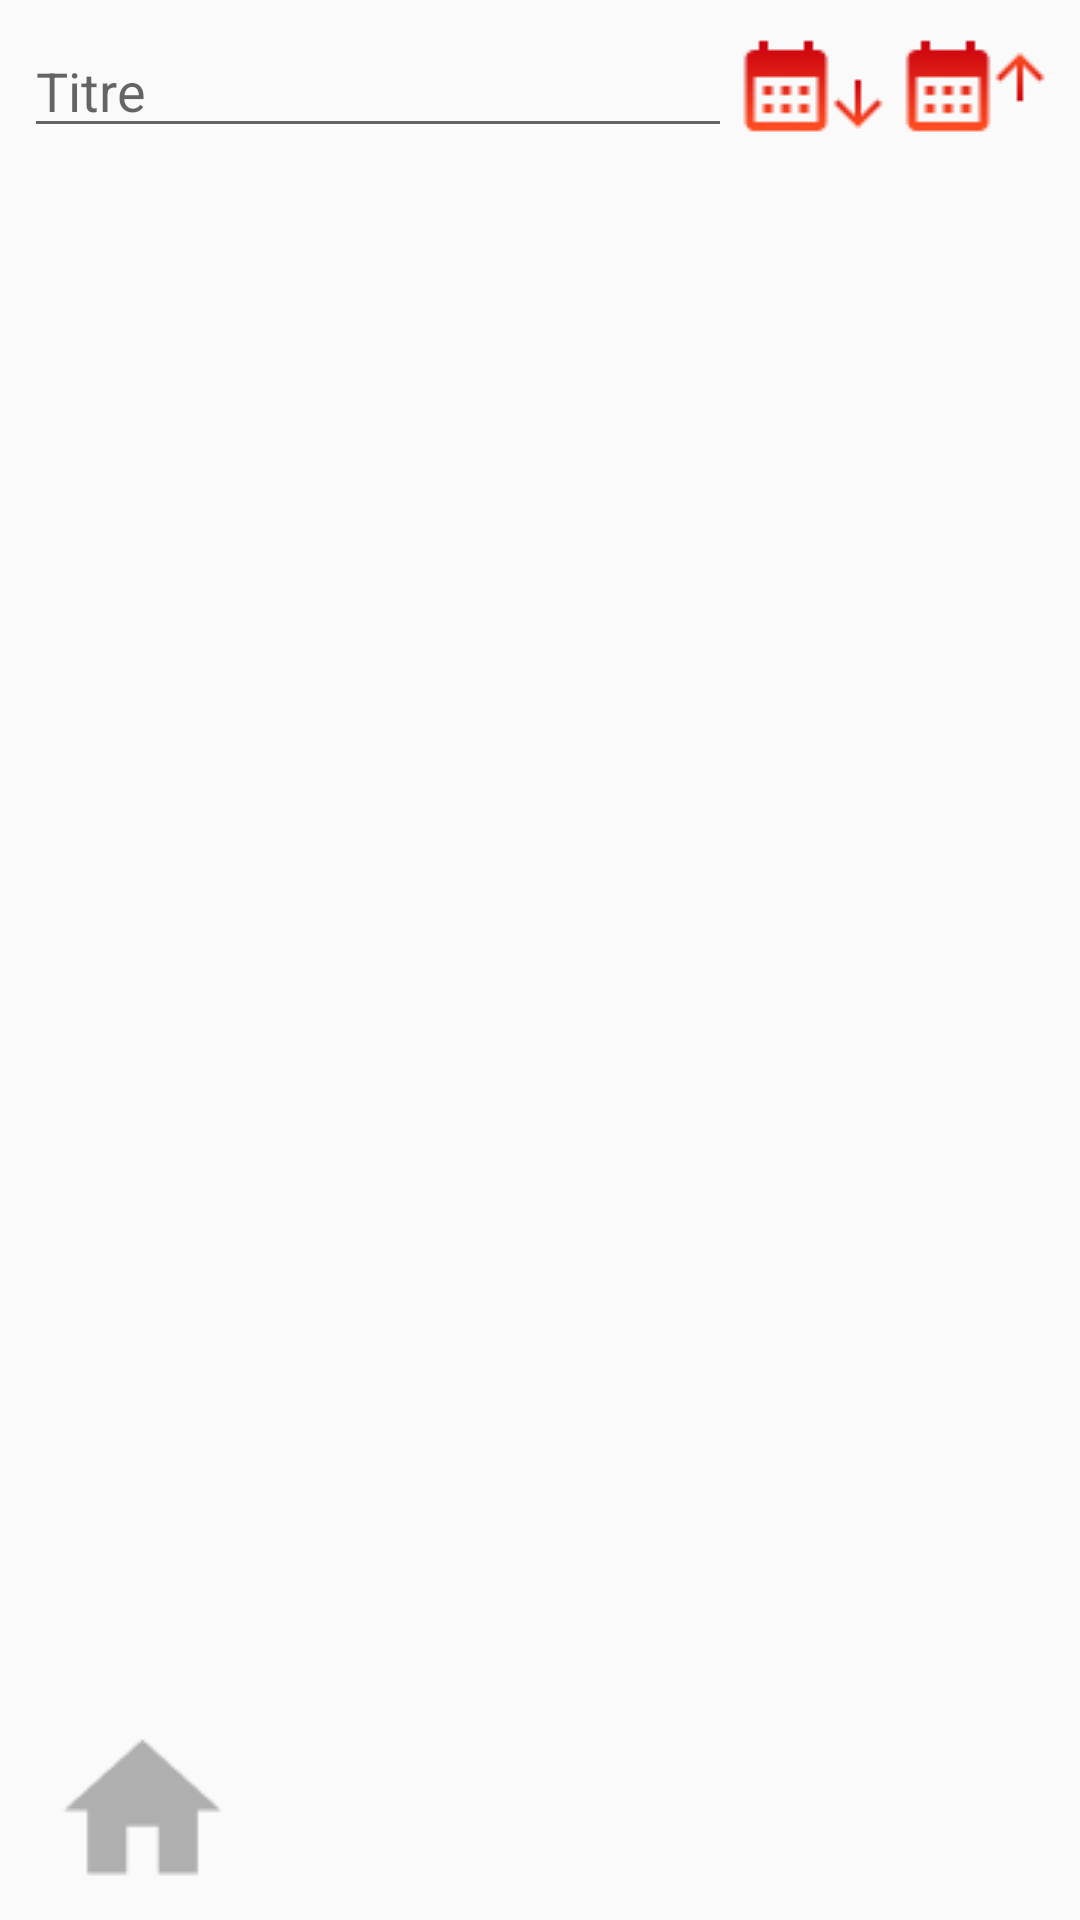

Point at icon controls on the screen. Image size 1080px×1920px, points as (x,y).
calendar sort down: (813,86)
calendar sort up: (975,86)
home: (142,1807)
